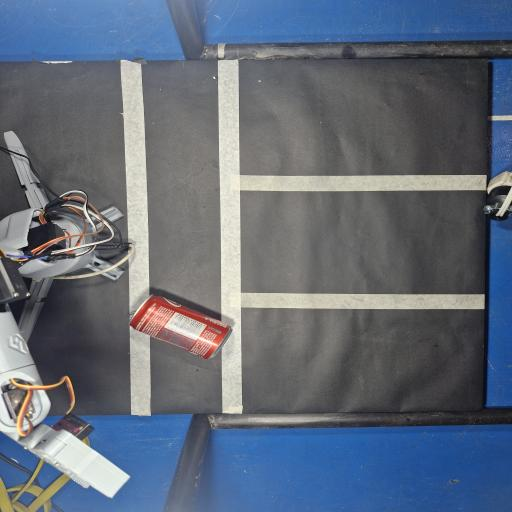lata: (130, 296, 232, 359)
